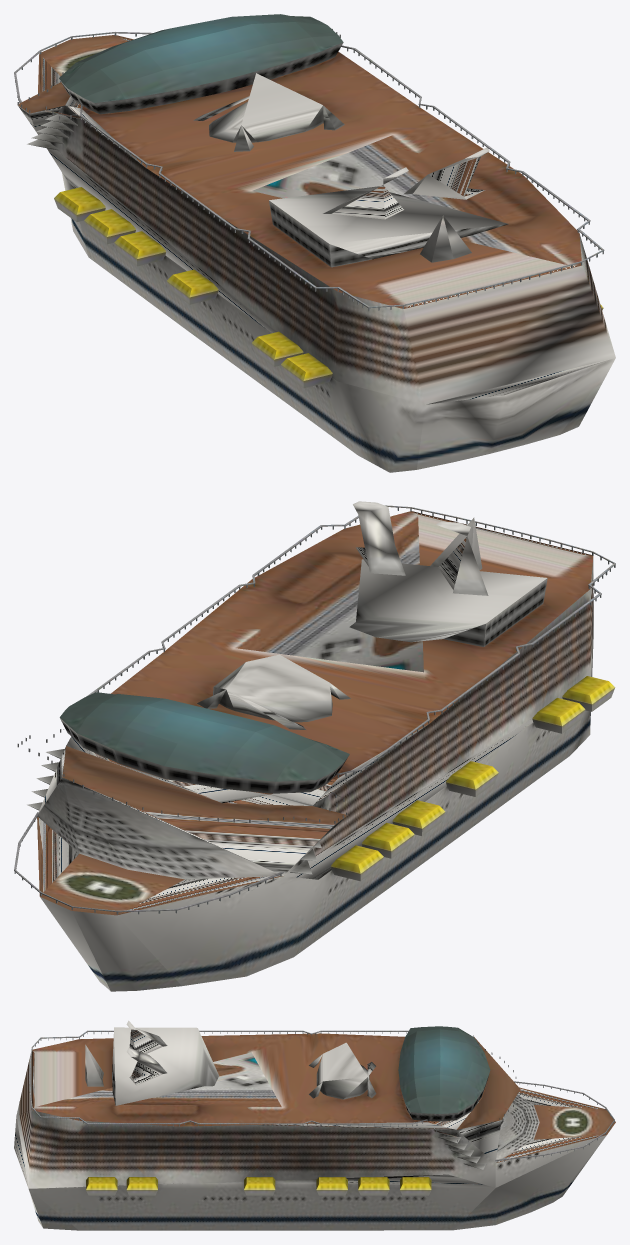
File: del-mar-low.v1.glb
3 renders of one model, top to bottom at view 1: azimuth 30°, elevation 25°; view 2: azimuth 150°, elevation 25°; view 3: azimuth 270°, elevation 25°, orthographic. The views are drawn at different scales.
Parts seen in each view (by area): view 1: Del Mar; view 2: Del Mar; view 3: Del Mar.
Boxes of the visible parts, x1,y1,x2,y2 form: Del Mar: (14, 14, 615, 472); Del Mar: (14, 501, 615, 991); Del Mar: (14, 1020, 615, 1230).
Size of the model in its own units: 2.65 by 1.91 by 6.4.
1 material, 1 textured.
